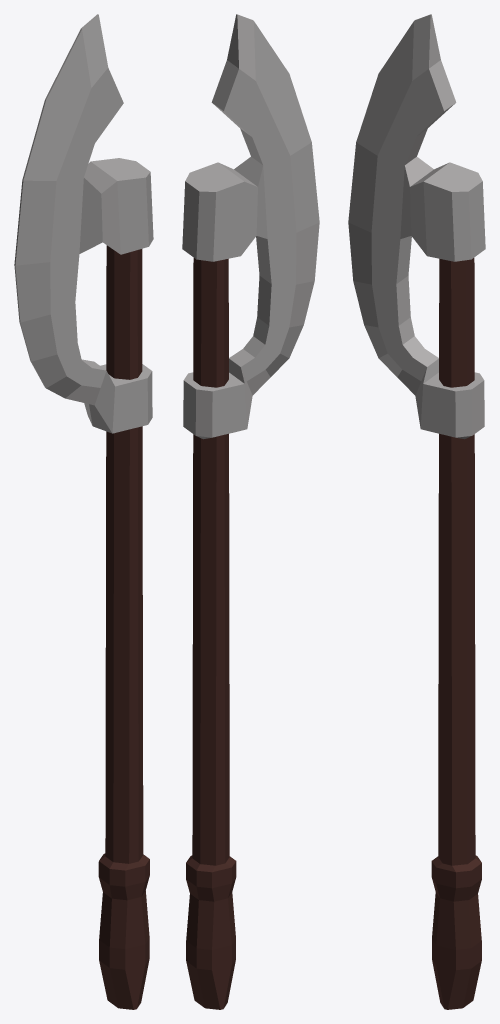
Rendered from Weapon.fbx.
The picture shows the model from 3 angles, left to right: view 1: azimuth 30°, elevation 25°; view 2: azimuth 210°, elevation 25°; view 3: azimuth 330°, elevation 25°; orthographic projection.
Parts seen in each view (by area): view 1: Cube.001, Cube; view 2: Cube.001, Cube; view 3: Cube.001, Cube.
Boxes of the visible parts, x1=… form: Cube.001: x1=14, y1=14, x2=153, y2=433; Cube: x1=98, y1=245, x2=149, y2=1009; Cube.001: x1=182, y1=14, x2=319, y2=439; Cube: x1=186, y1=258, x2=236, y2=1009; Cube.001: x1=348, y1=14, x2=485, y2=439; Cube: x1=431, y1=258, x2=481, y2=1009.
Size of the model in its own units: 69.33 by 501 by 24.46.
